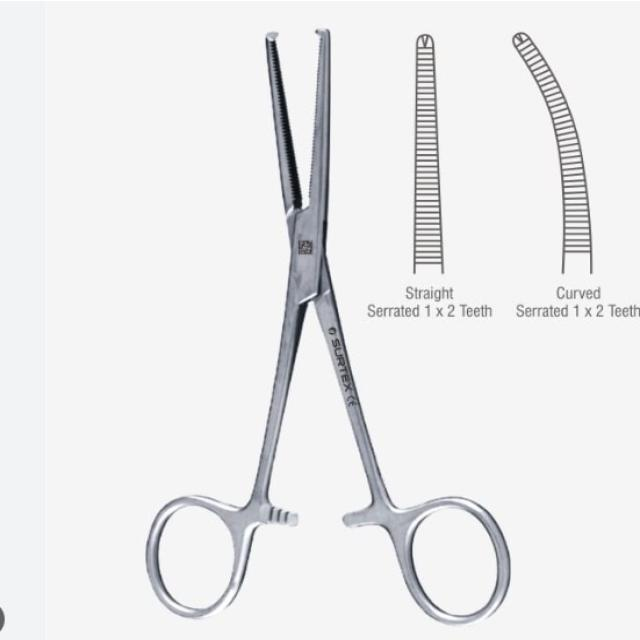Kocher Forceps: (147, 23, 510, 630)
